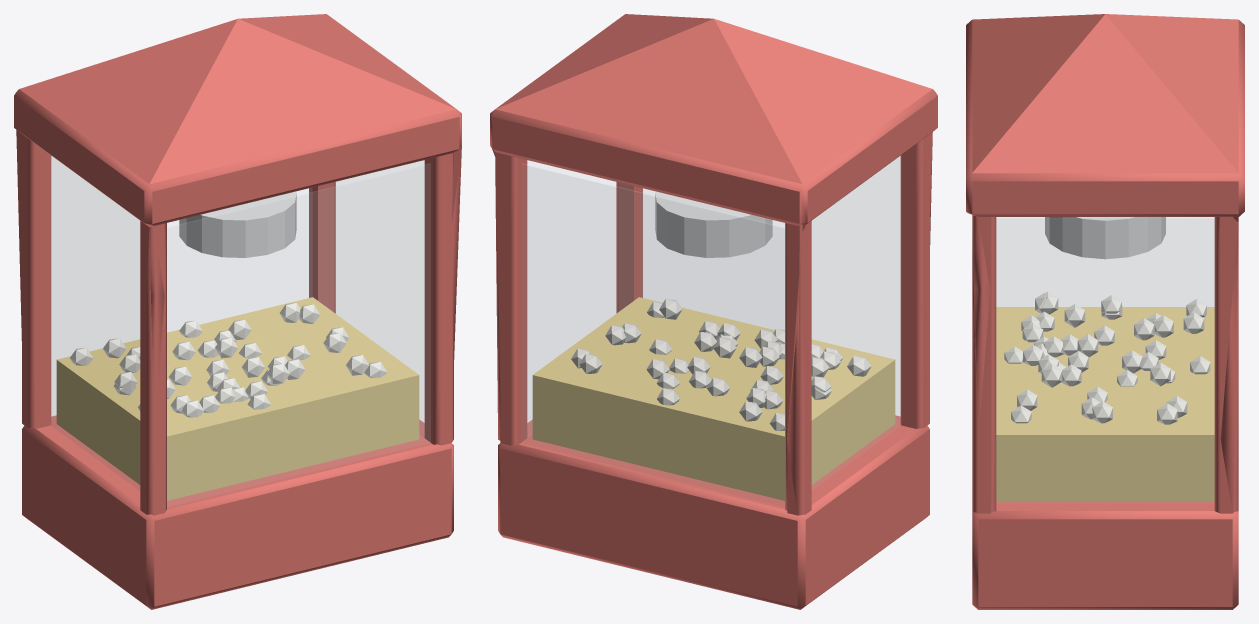
File: popcorn.glb
3 renders of one model, left to right at view 1: azimuth 30°, elevation 25°; view 2: azimuth 150°, elevation 25°; view 3: azimuth 270°, elevation 25°, orthographic. The views are drawn at different scales.
Visible parts, largest first — view 1: popcorn_flag_r, popcorn_glass, popcorn_food_y, popcorn_paper, popcorn_chrome; view 2: popcorn_flag_r, popcorn_glass, popcorn_food_y, popcorn_paper, popcorn_chrome; view 3: popcorn_flag_r, popcorn_glass, popcorn_food_y, popcorn_paper, popcorn_chrome.
Part boxes in pixels (x1,y1,x2,y2): popcorn_flag_r: (14, 14, 461, 609); popcorn_glass: (51, 156, 430, 506); popcorn_food_y: (56, 297, 419, 500); popcorn_paper: (70, 302, 387, 417); popcorn_chrome: (179, 191, 296, 257); popcorn_flag_r: (490, 14, 937, 609); popcorn_glass: (521, 156, 900, 506); popcorn_food_y: (532, 297, 895, 500); popcorn_paper: (571, 299, 871, 430); popcorn_chrome: (655, 191, 772, 257); popcorn_flag_r: (966, 14, 1244, 609); popcorn_glass: (996, 217, 1214, 503); popcorn_food_y: (996, 307, 1214, 500); popcorn_paper: (1004, 292, 1210, 424); popcorn_chrome: (1045, 217, 1165, 259).
Bounding box in the file's own units: 0.62 × 0.95 × 0.46.
